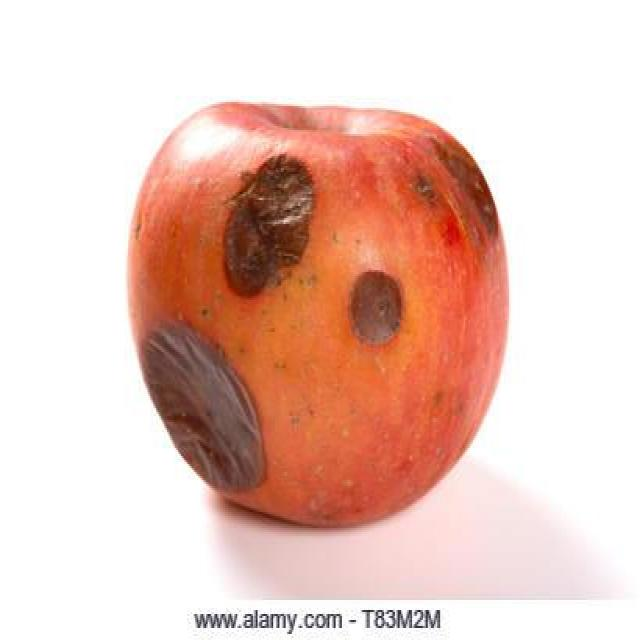Rotten: (128, 94, 501, 534)
